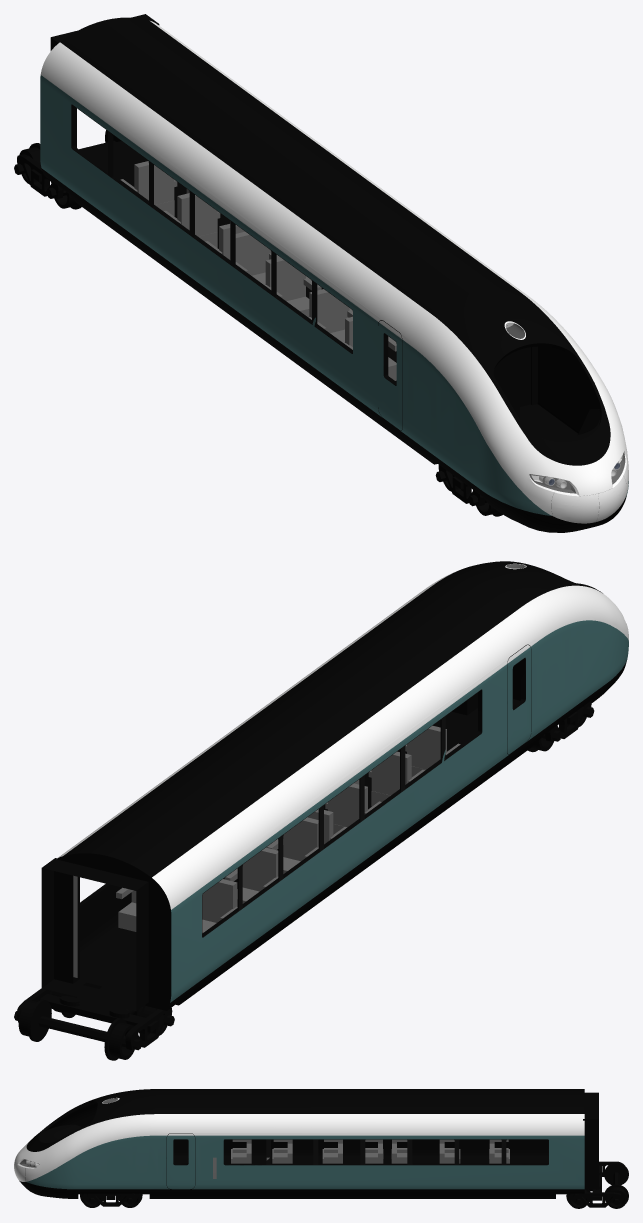
File: highspeed_train_front_loc.glb
The picture shows the model from 3 angles, top to bottom: view 1: azimuth 30°, elevation 25°; view 2: azimuth 150°, elevation 25°; view 3: azimuth 270°, elevation 25°; orthographic projection. The views are drawn at different scales.
Visible parts, largest first — view 1: SketchUp, Box_18, Box_6, Box_2, Box_14, Box_22, Line004_meta_0_1; view 2: SketchUp, Box_6, Box_2, Box_10, Line004_meta_0_1, Box_22, Box_26, Box_18, Rectangle004_meta_0_1, Circle015_meta_0_1, Circle014_meta_0_1, NGon009_meta_0_1; view 3: SketchUp, Circle015_meta_0_1, Line004_meta_0_1, Line004, Circle014_meta_0_1.
Part boxes in pixels (<box>): SketchUp: <box>40,14,628,532</box>; Box_18: <box>265,257,305,301</box>; Box_6: <box>177,193,217,236</box>; Box_2: <box>134,161,174,204</box>; Box_14: <box>235,231,270,275</box>; Box_22: <box>309,289,349,332</box>; Line004_meta_0_1: <box>17,154,63,198</box>; SketchUp: <box>41,561,628,1015</box>; Box_6: <box>242,847,278,891</box>; Box_2: <box>202,879,237,922</box>; Box_10: <box>283,817,318,861</box>; Line004_meta_0_1: <box>17,988,172,1049</box>; Box_22: <box>371,751,411,795</box>; Box_26: <box>407,725,446,769</box>; Box_18: <box>328,783,367,827</box>; Rectangle004_meta_0_1: <box>39,993,158,1032</box>; Circle015_meta_0_1: <box>27,999,126,1060</box>; Circle014_meta_0_1: <box>18,1000,134,1059</box>; NGon009_meta_0_1: <box>14,1011,142,1050</box>; SketchUp: <box>14,1089,598,1198</box>; Circle015_meta_0_1: <box>604,1162,628,1203</box>; Line004_meta_0_1: <box>573,1161,621,1207</box>; Line004: <box>87,1193,134,1206</box>; Circle014_meta_0_1: <box>606,1161,626,1208</box>.
Size of the model in its own units: 3 by 3.9 by 21.56.
